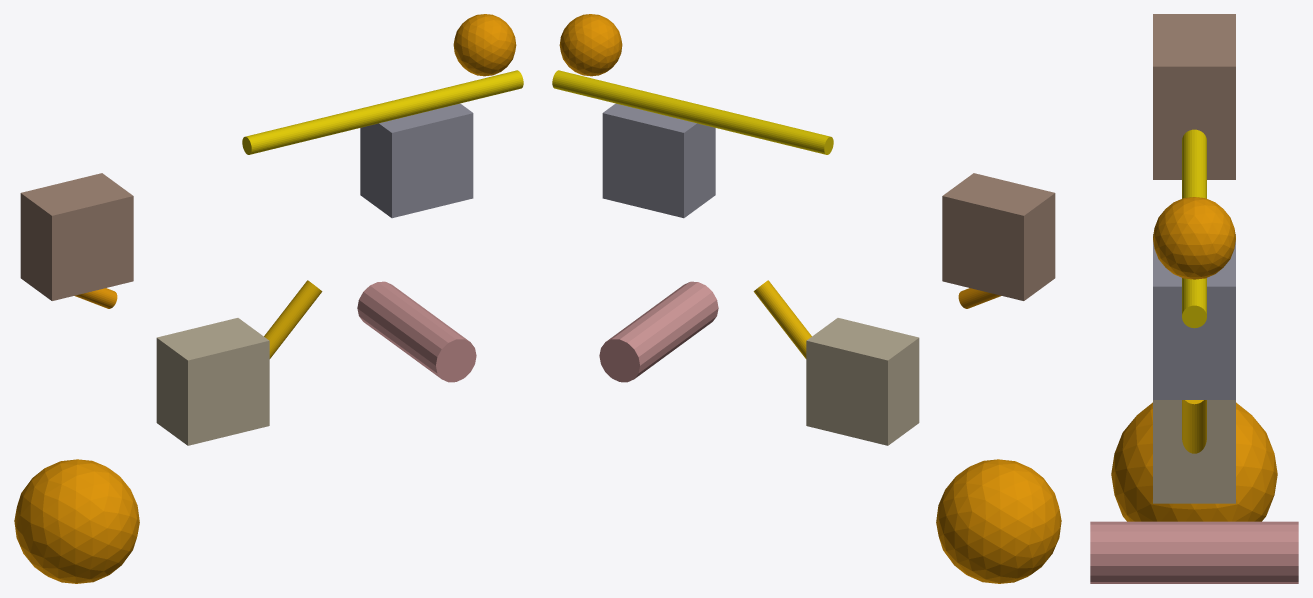
Rendered from rock_cycle.glb.
3 views of the same model, side by side, from view 1: azimuth 30°, elevation 25°; view 2: azimuth 150°, elevation 25°; view 3: azimuth 270°, elevation 25° (orthographic). The views are drawn at different scales.
Visible parts, largest first — view 1: world; view 2: world; view 3: world.
Boxes of the visible parts, x1,y1,x2,y2 form: world: (14,14,523,583); world: (552,14,1061,583); world: (1090,14,1298,583).
Size of the model in its own units: 7.3 by 6.5 by 2.
